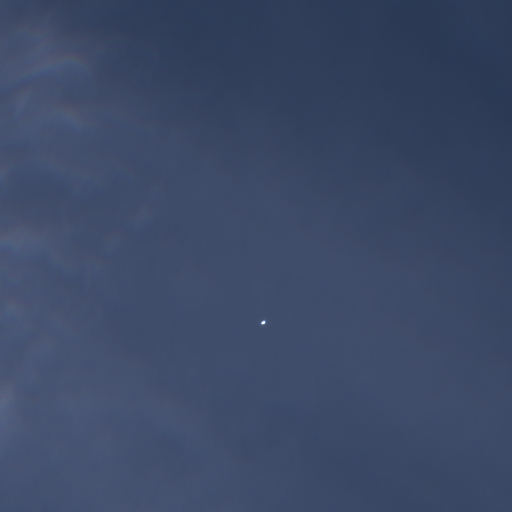Iceberg: (260, 319, 266, 324)
